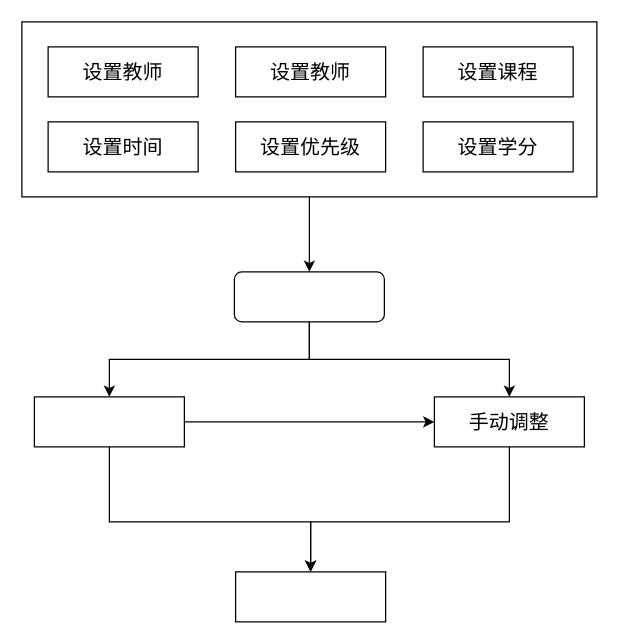
Some shapes in this 619 by 644 pixel diagram are drawn without their labels. The shapes that lost their labels are listed below. From the top down, each one's centre as x and y in pixels, then its label:
point (308, 296): 排课
point (108, 421): 查看排课结果
point (310, 596): 完成
